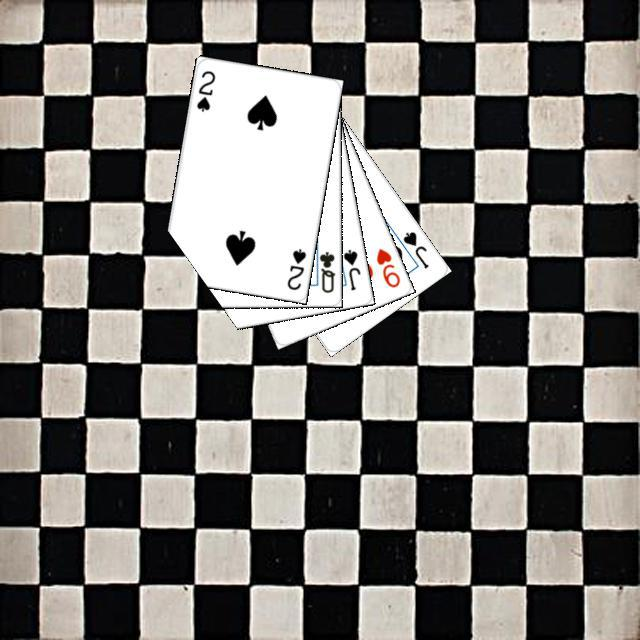2s: (282, 244, 308, 292), (192, 66, 217, 113)
9h: (371, 243, 402, 289)
Js: (398, 226, 430, 270), (338, 245, 362, 292)
Qc: (310, 243, 336, 295)
